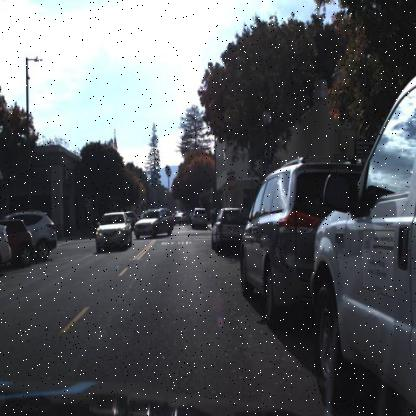car: (238, 152, 364, 326), (233, 149, 319, 334), (208, 198, 239, 260), (93, 208, 132, 255), (132, 204, 176, 240), (31, 208, 58, 262), (190, 202, 210, 234)
